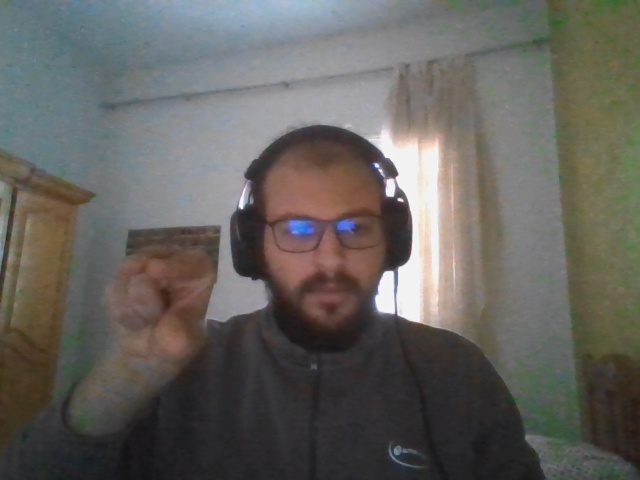No: (102, 245, 207, 363)
